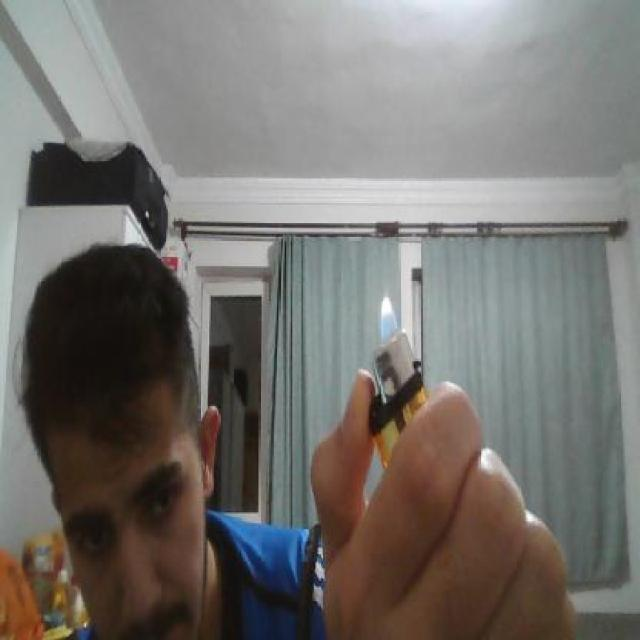Fire: (369, 289, 405, 341)
